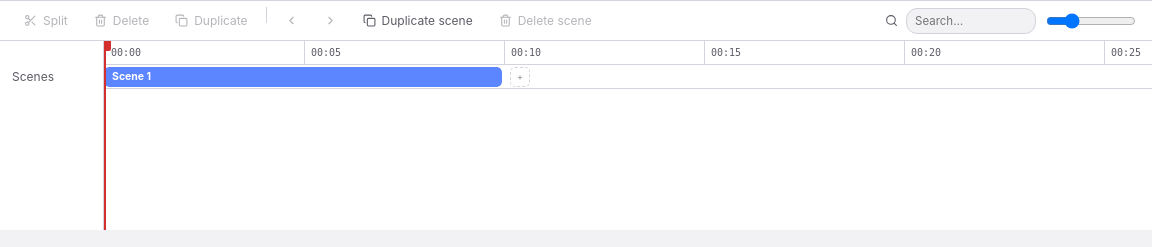
Test: Timeline — renaming a scene › commits the new name on blur
This screenshot has width=1152, height=247.
Double-click the text "Scene 1": (132, 77) [112,69,151,85]
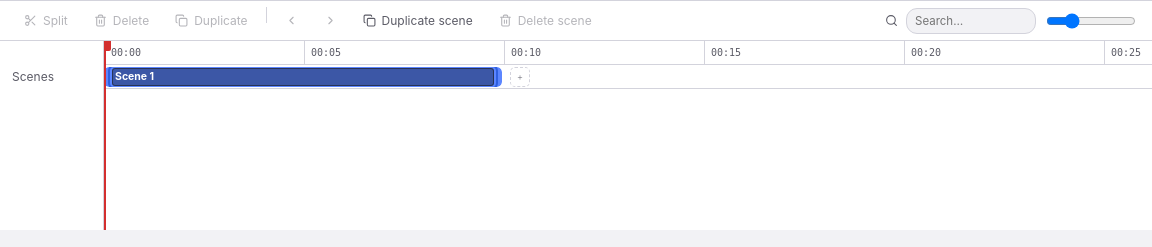
Replace the text in the field with class "timeline-scene-name-input" with " Opening ": (303, 77) [112,68,494,86]
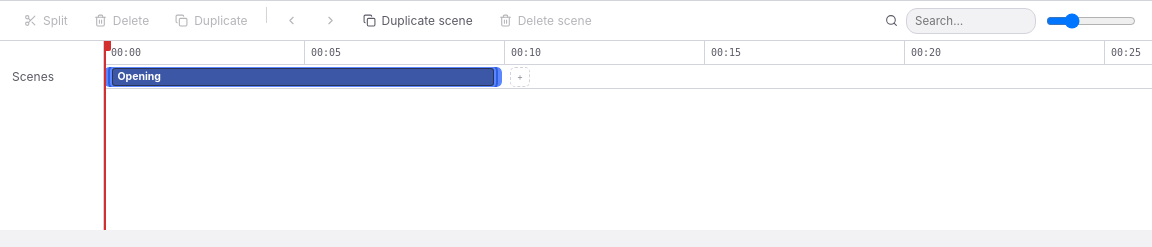
Leave the field with class "timeline-scene-name-input", box [112,68,494,86]
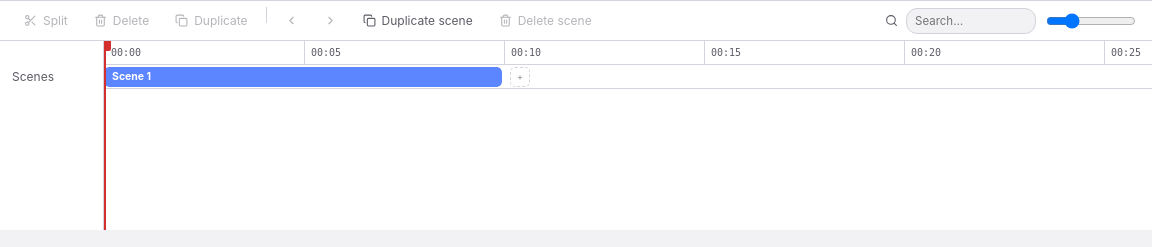
Now the field with class "timeline-scene-name-input" is gone
